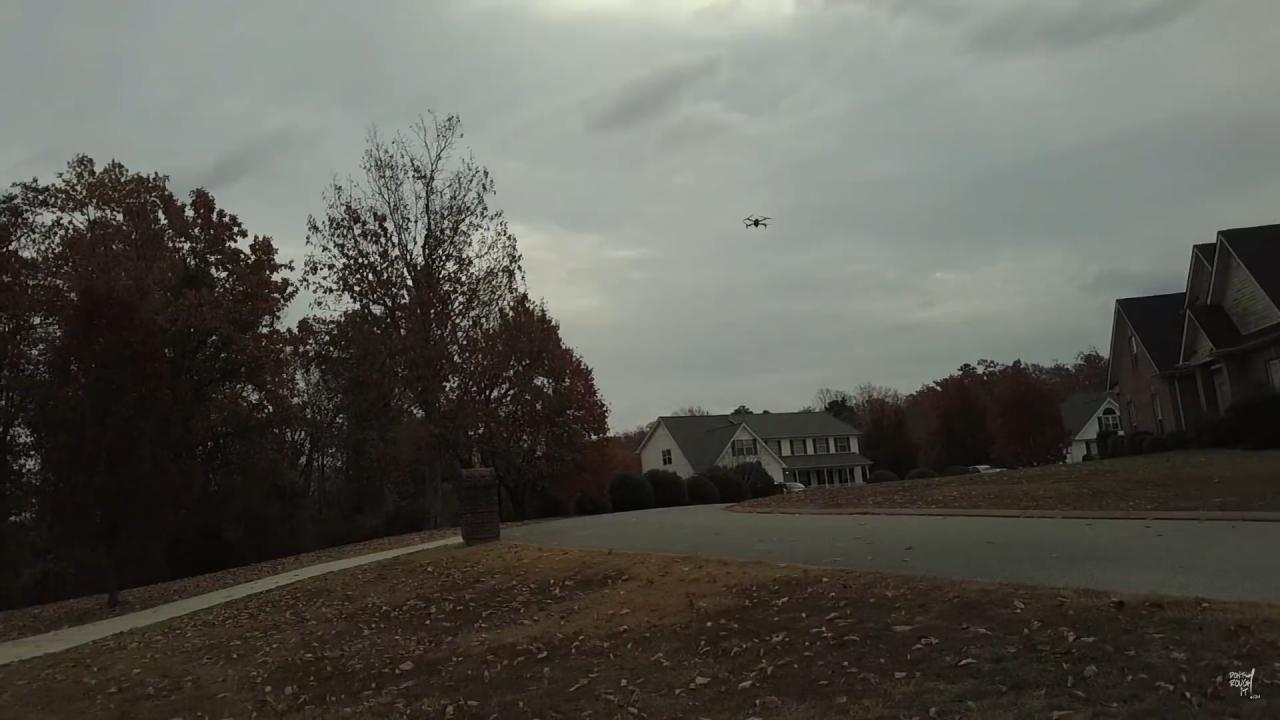Drone: (737, 210, 780, 236)
